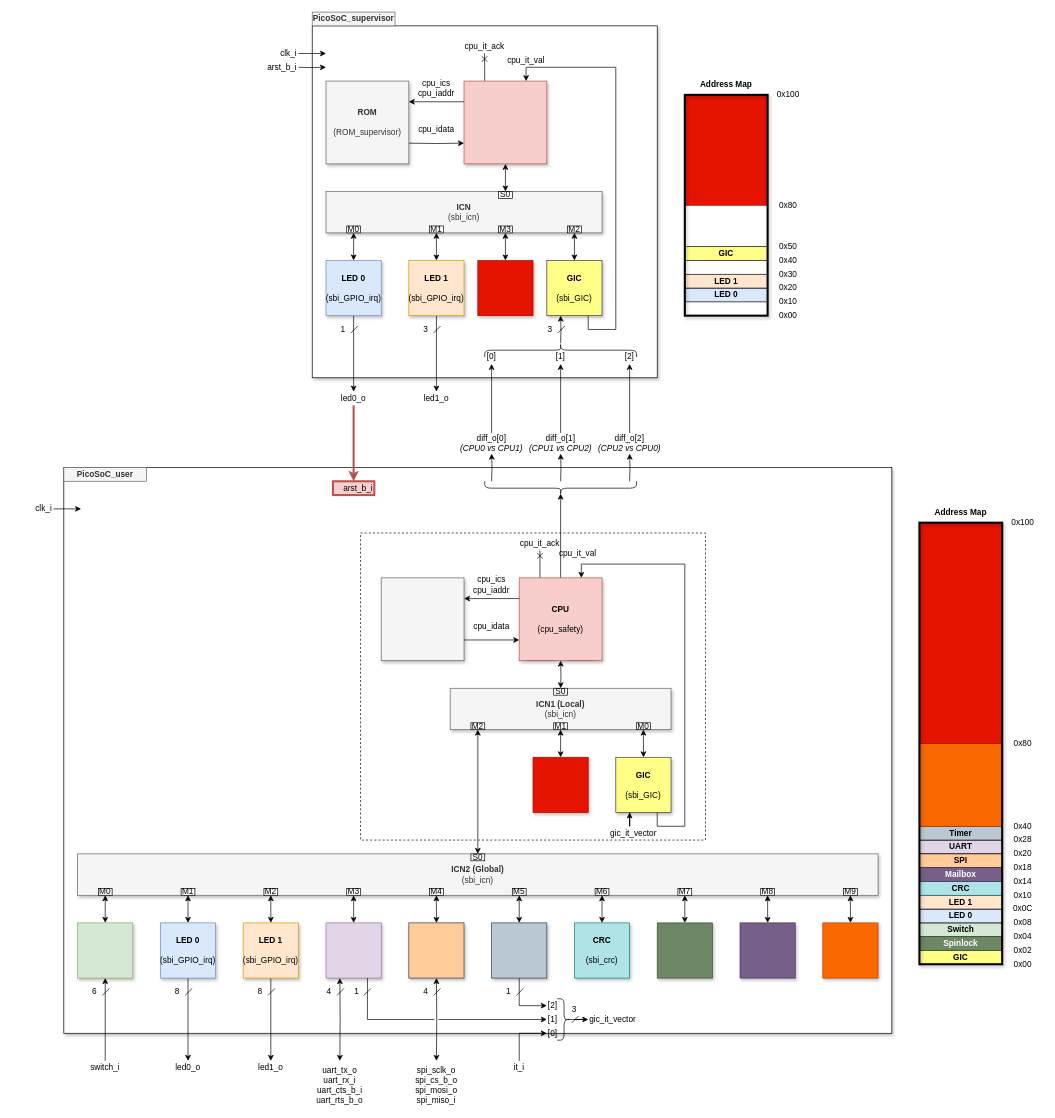
This 1055x1118 diagram has some shape labels left out. The centre of each missing label's shape, as x and y in pixels:
CPU (cpu_wrapper): point (506, 123)
Mailbox (sbi_mailbox): point (768, 951)
RAM: point (726, 149)
RAM (sbi_ram): point (505, 289)
RAM1: point (960, 632)
RAM1 (sbi_ram): point (561, 785)
RAM2: point (960, 784)
RAM2 (sbi_ram): point (850, 951)
ROM (ROM_user): point (423, 620)
SPI (sbi_spi): point (436, 951)
Spinlock (sbi_spinlock): point (685, 951)
Switch (sbi_GPIO_irq): point (105, 951)
Timer (sbi_timer): point (519, 951)
UART (sbi_uart): point (354, 951)
